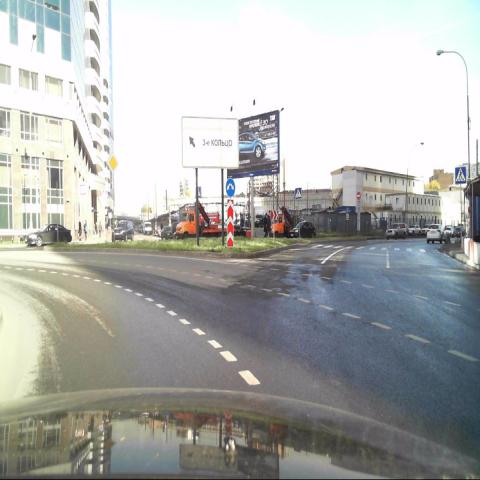2_1: (107, 153, 118, 174)
